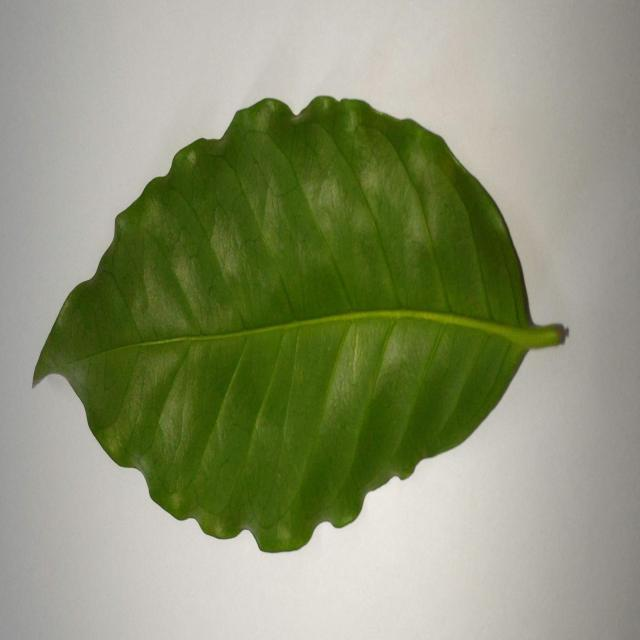nodisease: (33, 97, 568, 552)
